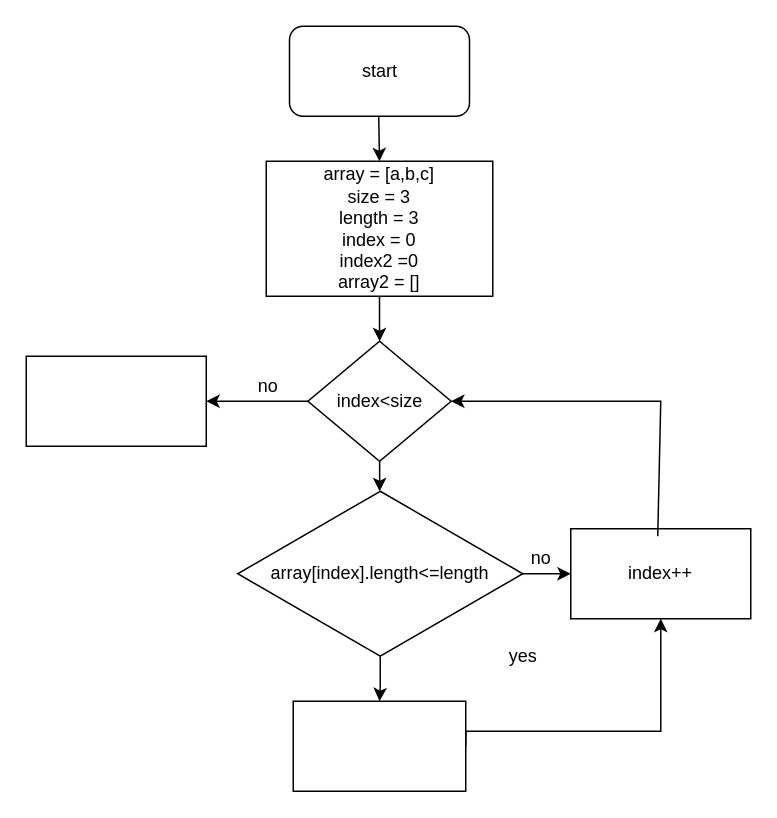
Some shapes in this 777 by 818 pixel diagram are drawn without their labels. The shapes that lost their labels are listed below. From the top down, each one's centre as x and y in pixels, then its label:
point 115,400: Элементы найдены
point 379,745: array2[index2] = array[index] index2++
